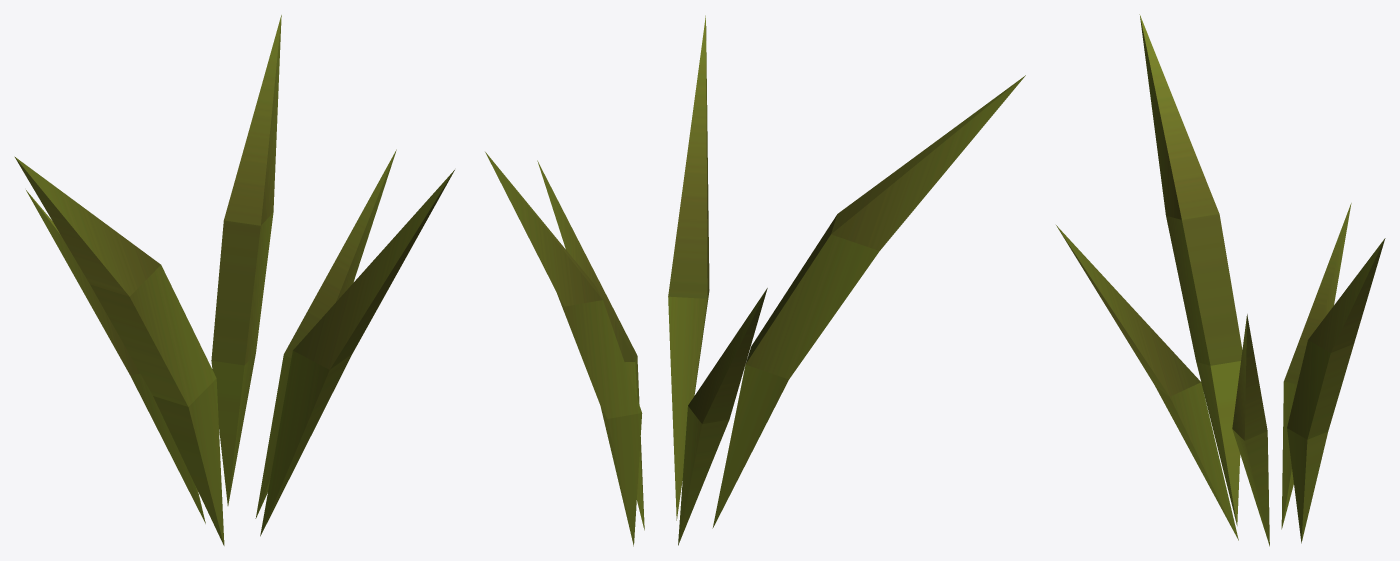
File: Plant_Grass_2.fbx
3 views of the same model, side by side, from view 1: azimuth 30°, elevation 25°; view 2: azimuth 150°, elevation 25°; view 3: azimuth 270°, elevation 25° (orthographic). The views are drawn at different scales.
Parts seen in each view (by area): view 1: polySurface10613; view 2: polySurface10613; view 3: polySurface10613.
Part boxes in pixels (bbox=[...]): polySurface10613: bbox=[14, 15, 454, 545]; polySurface10613: bbox=[485, 15, 1025, 546]; polySurface10613: bbox=[1056, 14, 1385, 546].
Bounding box in the file's own units: 60.46 × 64.41 × 47.49.
